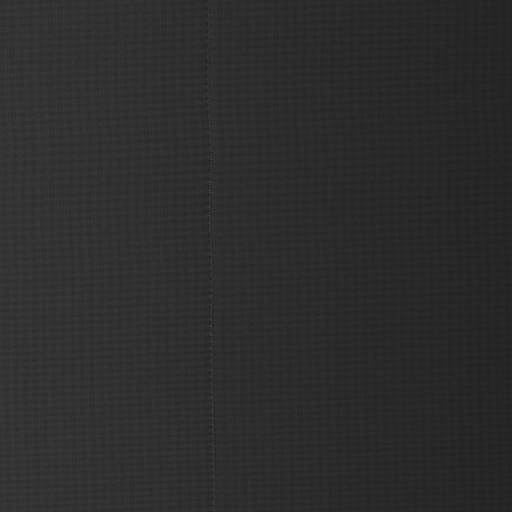defect: (199, 1, 223, 512)
